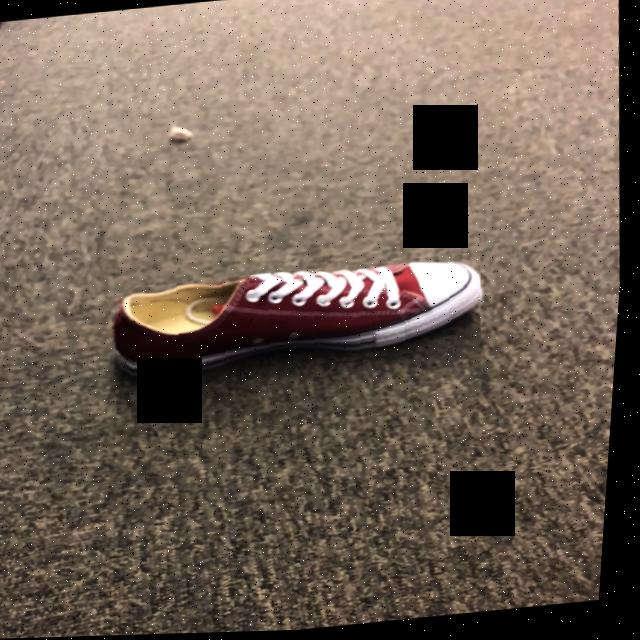shoe: (115, 264, 485, 384)
